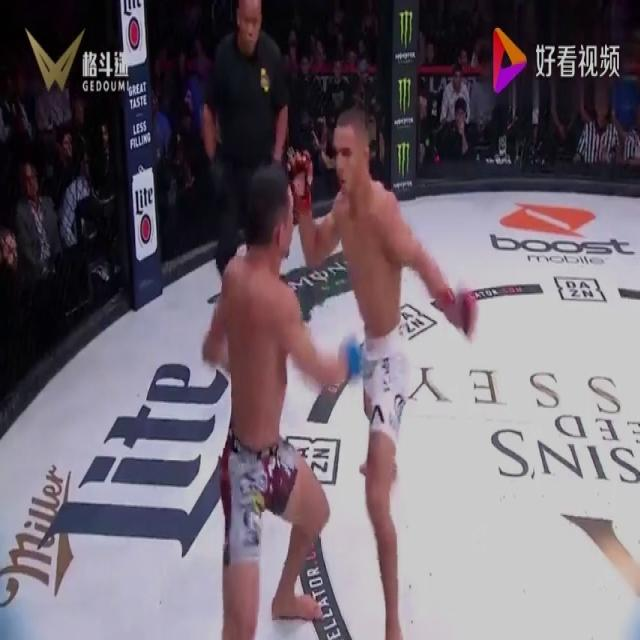fight: (161, 80, 483, 639)
non-fight: (202, 0, 290, 288)
